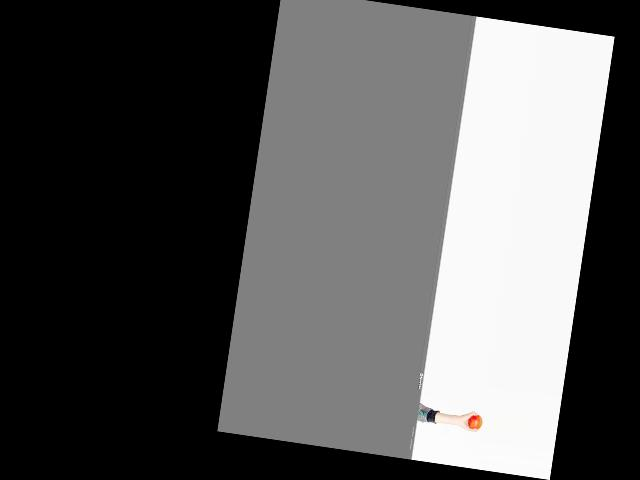tomato: (467, 413, 483, 430)
